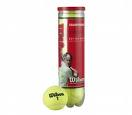tennis ball: (42, 85, 70, 112)
